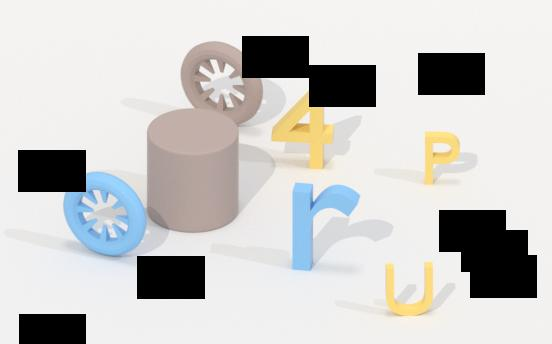6: (272, 78, 336, 173)
R: (288, 175, 361, 274)
p: (423, 128, 463, 187)
tron: (60, 169, 152, 261), (180, 39, 262, 129)
tru: (144, 108, 243, 241)
u: (384, 257, 438, 320)
